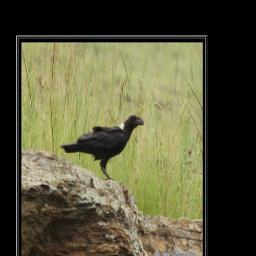Crow: (60, 114, 145, 181)
